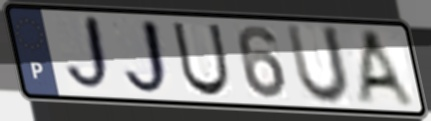6: (233, 24, 288, 102)
A: (354, 27, 421, 111)
J: (121, 16, 177, 99), (61, 12, 116, 96)
U: (282, 22, 354, 108), (169, 20, 233, 99)
